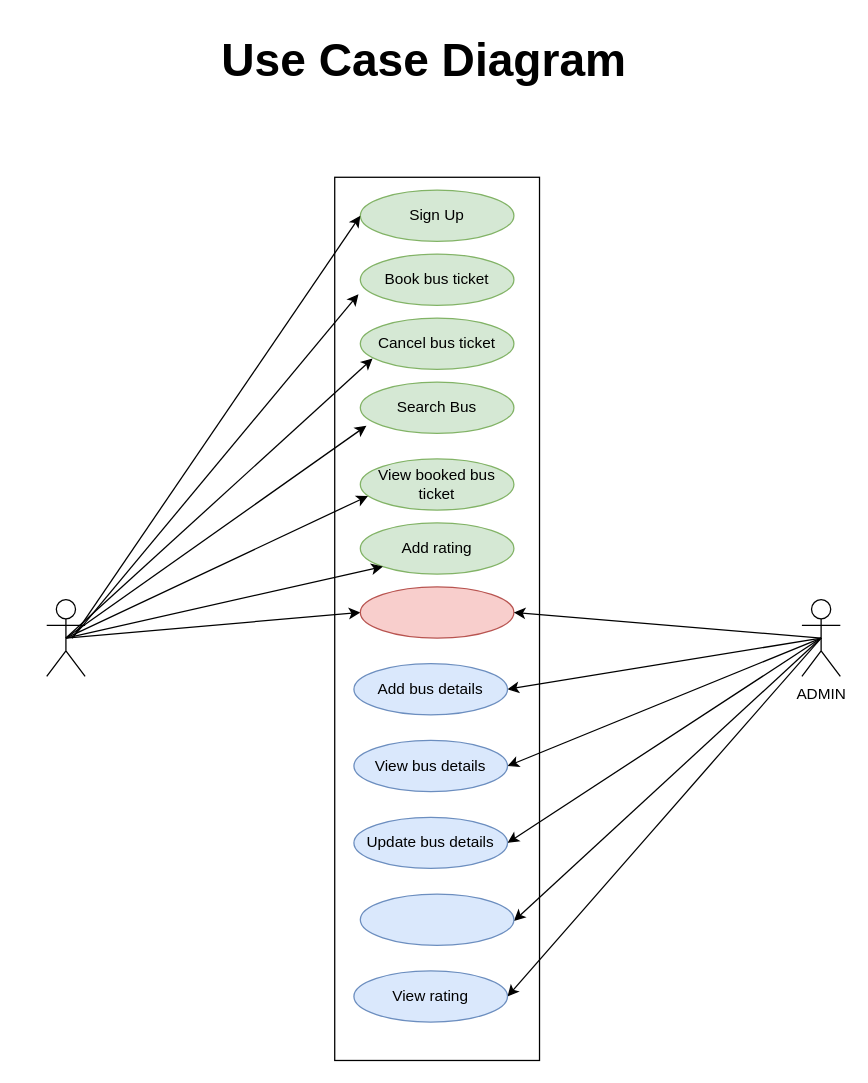
Image size: 868x1083. Some labels were removed from this diagram. Here are the shapes that lost their labels. From the top down, the box of each, then its label:
(359, 586, 514, 638): Log In
(45, 598, 85, 676): CUSTOMER
(359, 893, 514, 945): Delete bus details
